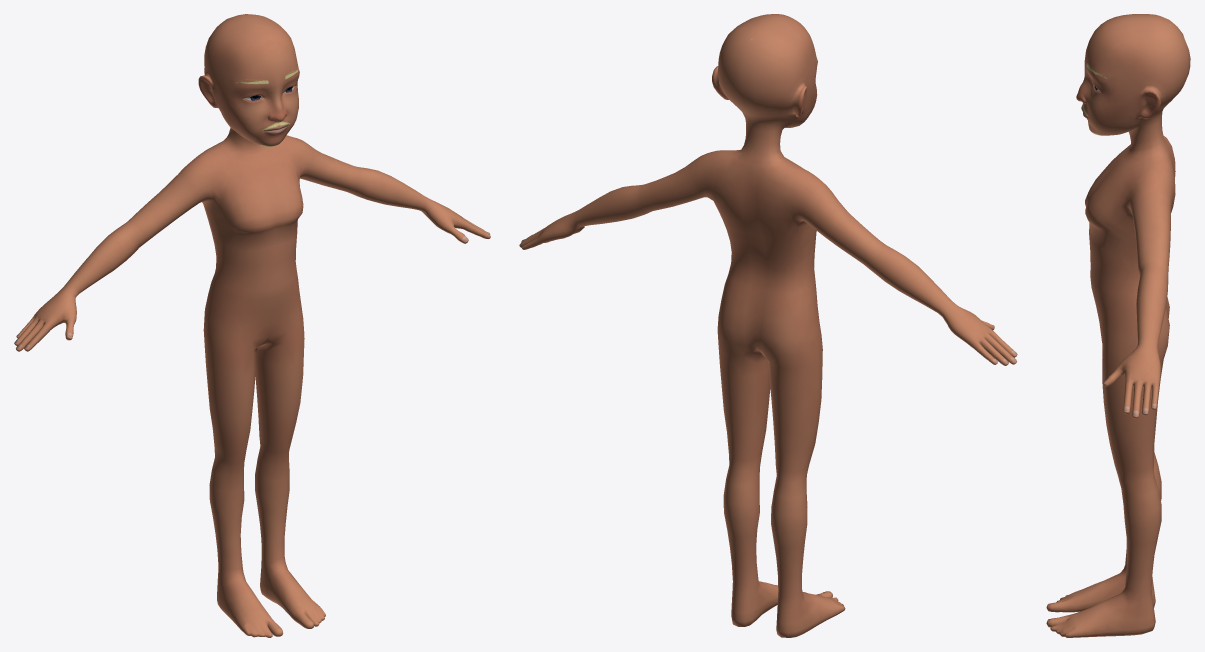
Rendered from frame_0037.glb.
3 renders of one model, left to right at view 1: azimuth 30°, elevation 25°; view 2: azimuth 150°, elevation 25°; view 3: azimuth 270°, elevation 25°, orthographic. The views are drawn at different scales.
Parts seen in each view (by area): view 1: frame_0037_head_geo; view 2: frame_0037_head_geo; view 3: frame_0037_head_geo.
Boxes of the visible parts, x1,y1,x2,y2 form: frame_0037_head_geo: (14, 14, 490, 637); frame_0037_head_geo: (519, 14, 1017, 637); frame_0037_head_geo: (1046, 14, 1190, 637).
Size of the model in its own units: 1.28 by 1.5 by 0.3253.
3 materials, 3 textured.
